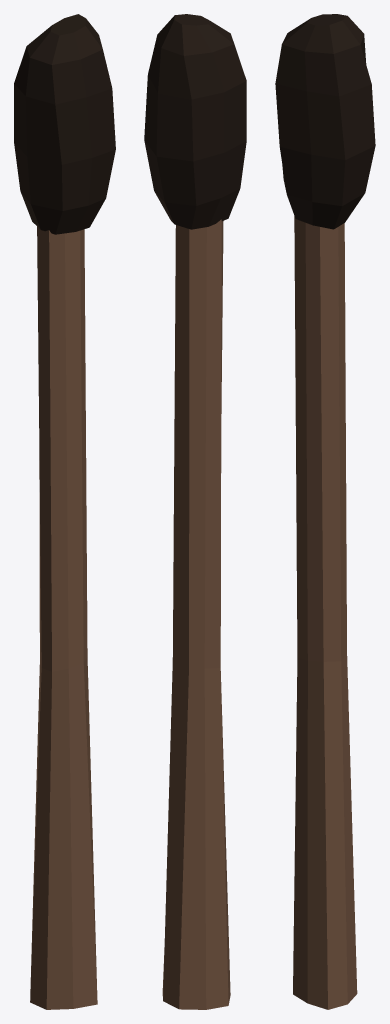
File: torch.fbx
3 renders of one model, left to right at view 1: azimuth 30°, elevation 25°; view 2: azimuth 210°, elevation 25°; view 3: azimuth 330°, elevation 25°, orthographic.
Parts seen in each view (by area): view 1: torch; view 2: torch; view 3: torch.
Part boxes in pixels (x1,y1,x2,y2): torch: (14,14,115,1009); torch: (144,14,246,1009); torch: (275,14,375,1009).
Bounding box in the file's own units: 0.1237 × 1.33 × 0.1009.
